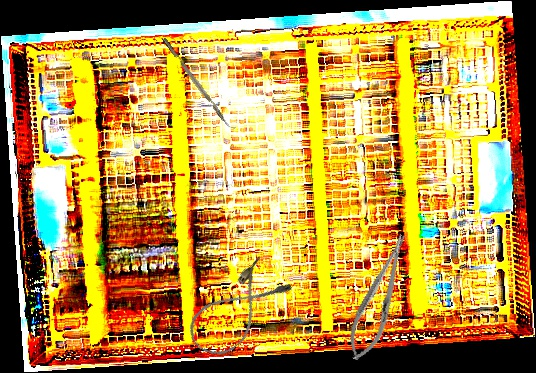Cannula: (180, 252, 296, 367)
Chopper: (162, 34, 237, 133)
Needle Holder: (340, 229, 419, 366)
